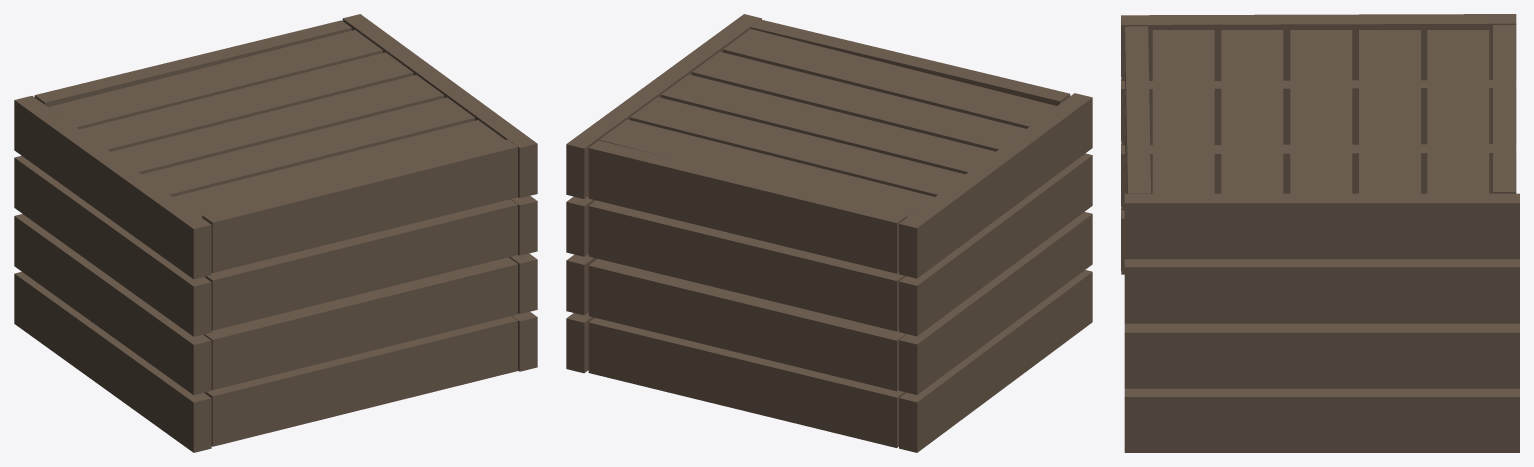
Rendered from Crate.fbx.
3 renders of one model, left to right at view 1: azimuth 30°, elevation 25°; view 2: azimuth 150°, elevation 25°; view 3: azimuth 270°, elevation 25°, orthographic. The views are drawn at different scales.
Parts seen in each view (by area): view 1: Cube.013, Cube.010, Cube.012, Cube.009, Cube.014, Cube.016, Cube.017, Cube.015, Cube.020, Cube.019, Cube.021, Cube.022 (+6 smaller); view 2: Cube.004, Cube.006, Cube.005, Cube.008, Cube.014, Cube.016, Cube.017, Cube.015, Cube.019, Cube.018, Cube.020, Cube.021 (+6 smaller); view 3: Cube.003, Cube.001, Cube.002, Cube, Cube.022, Cube.020, Cube.019, Cube.018, Cube.021, Cube.014, Cube.013, Cube.004 (+2 smaller).
Part boxes in pixels (left/top/right/bottom): Cube.013: left=202, top=139, right=517, bottom=272; Cube.010: left=204, top=257, right=517, bottom=389; Cube.012: left=205, top=199, right=517, bottom=330; Cube.009: left=204, top=316, right=517, bottom=446; Cube.014: left=14, top=96, right=211, bottom=279; Cube.016: left=14, top=214, right=211, bottom=395; Cube.017: left=14, top=271, right=211, bottom=452; Cube.015: left=14, top=155, right=211, bottom=336; Cube.020: left=111, top=75, right=444, bottom=174; Cube.019: left=142, top=97, right=474, bottom=196; Cube.021: left=79, top=52, right=413, bottom=151; Cube.022: left=48, top=30, right=382, bottom=129; Cube.004: left=588, top=140, right=907, bottom=273; Cube.006: left=588, top=259, right=906, bottom=391; Cube.005: left=588, top=200, right=905, bottom=331; Cube.008: left=588, top=318, right=906, bottom=447; Cube.014: left=899, top=93, right=1092, bottom=278; Cube.016: left=899, top=212, right=1092, bottom=394; Cube.017: left=899, top=270, right=1092, bottom=452; Cube.015: left=899, top=153, right=1092, bottom=336; Cube.019: left=692, top=51, right=1025, bottom=151; Cube.018: left=723, top=29, right=1056, bottom=128; Cube.020: left=661, top=74, right=995, bottom=174; Cube.021: left=630, top=97, right=964, bottom=196; Cube.003: left=1124, top=193, right=1519, bottom=259; Cube.001: left=1124, top=323, right=1519, bottom=388; Cube.002: left=1124, top=259, right=1519, bottom=323; Cube: left=1124, top=388, right=1519, bottom=452; Cube.022: left=1427, top=30, right=1489, bottom=193; Cube.020: left=1290, top=30, right=1352, bottom=193; Cube.019: left=1221, top=30, right=1283, bottom=193; Cube.018: left=1152, top=30, right=1214, bottom=193; Cube.021: left=1359, top=30, right=1420, bottom=193; Cube.014: left=1121, top=14, right=1516, bottom=80; Cube.013: left=1125, top=26, right=1150, bottom=193; Cube.004: left=1493, top=25, right=1515, bottom=193.
Size of the model in its own units: 227 by 140 by 202.
